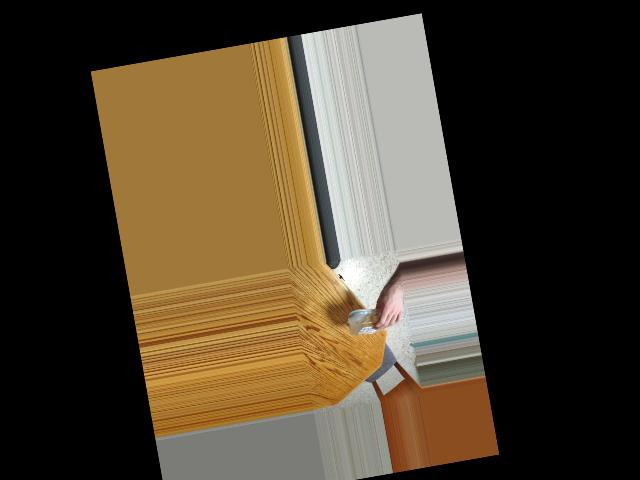cheese: (343, 288, 389, 346)
